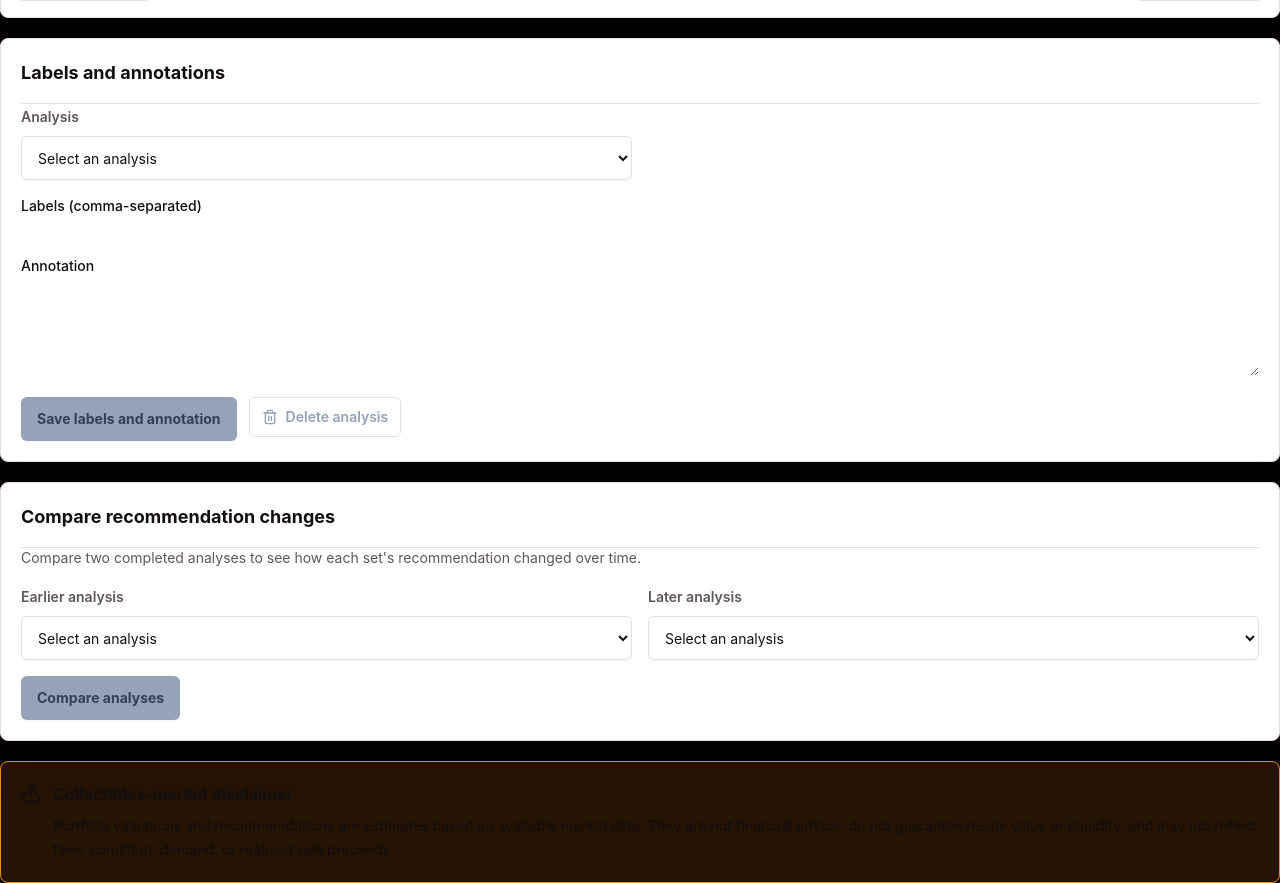
Test: AnalyzePortfolioPage › compares recommendation changes by set between prior analyses
This screenshot has width=1280, height=883.
(page scrolled)
Select "8/9/2026, 12:00:00 PM" in the dropdown labelled "Earlier analysis" at (326, 638), box [21,616,632,660]
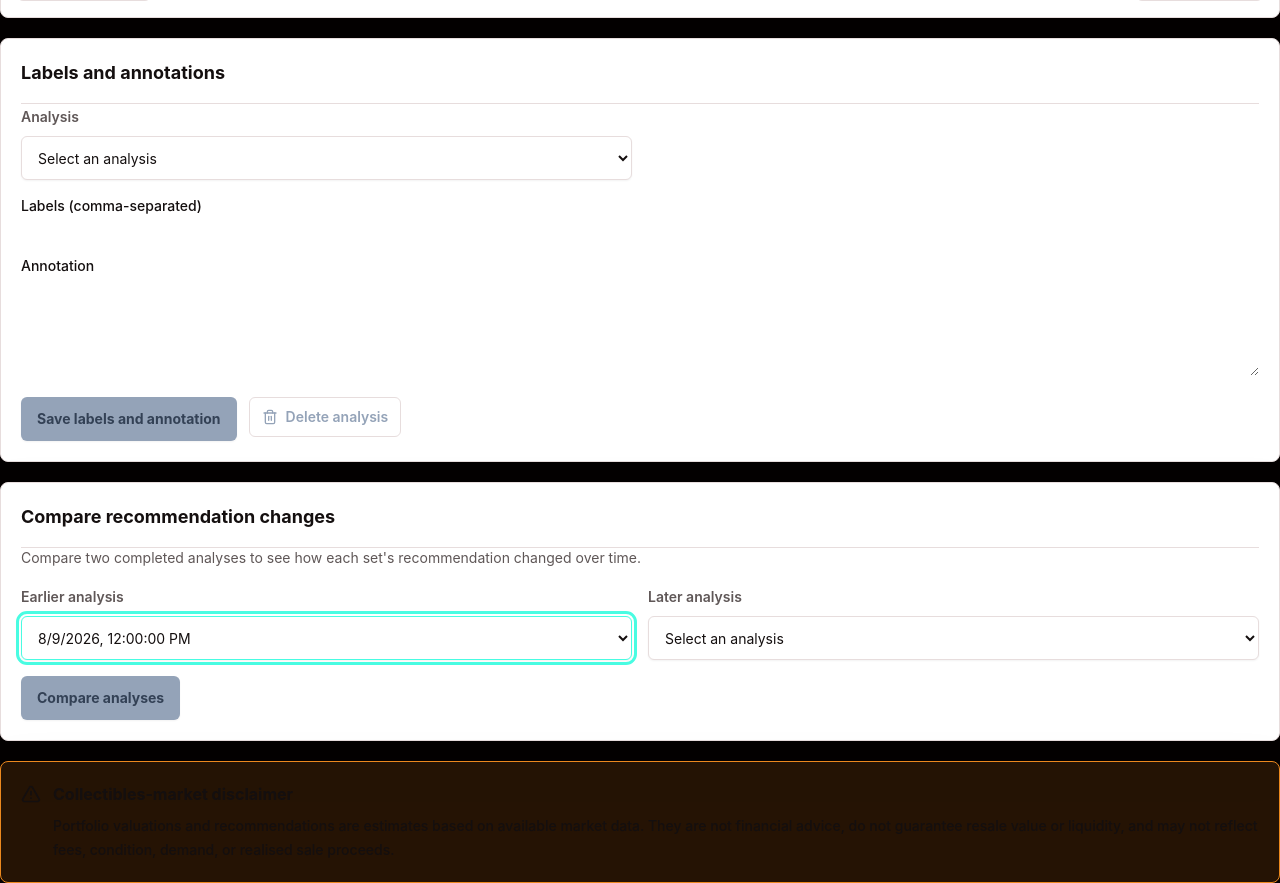
Select "8/10/2026, 12:00:00 PM" in the dropdown labelled "Later analysis" at (954, 638), box [648,616,1259,660]
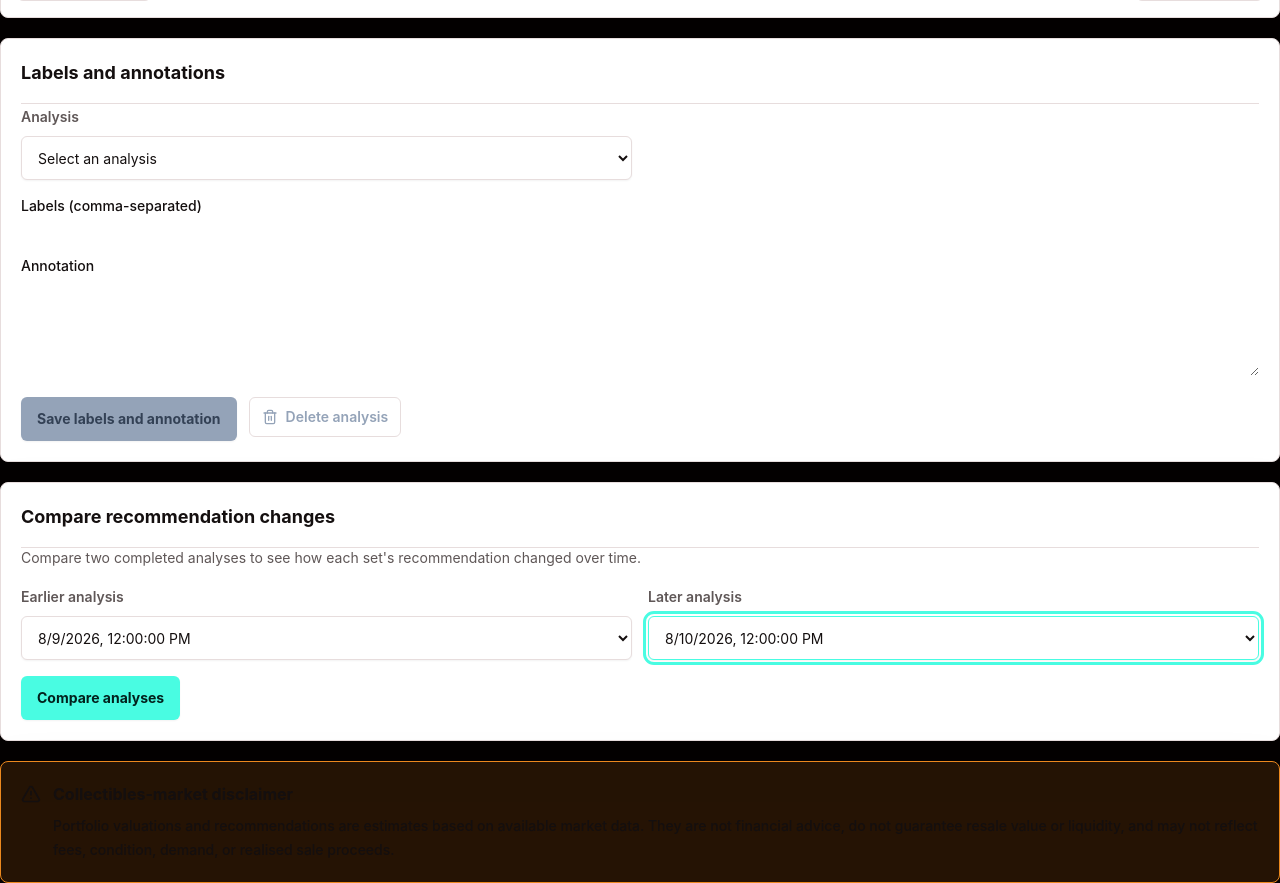
Click the button "Compare analyses" at (101, 698), box [21,676,180,720]
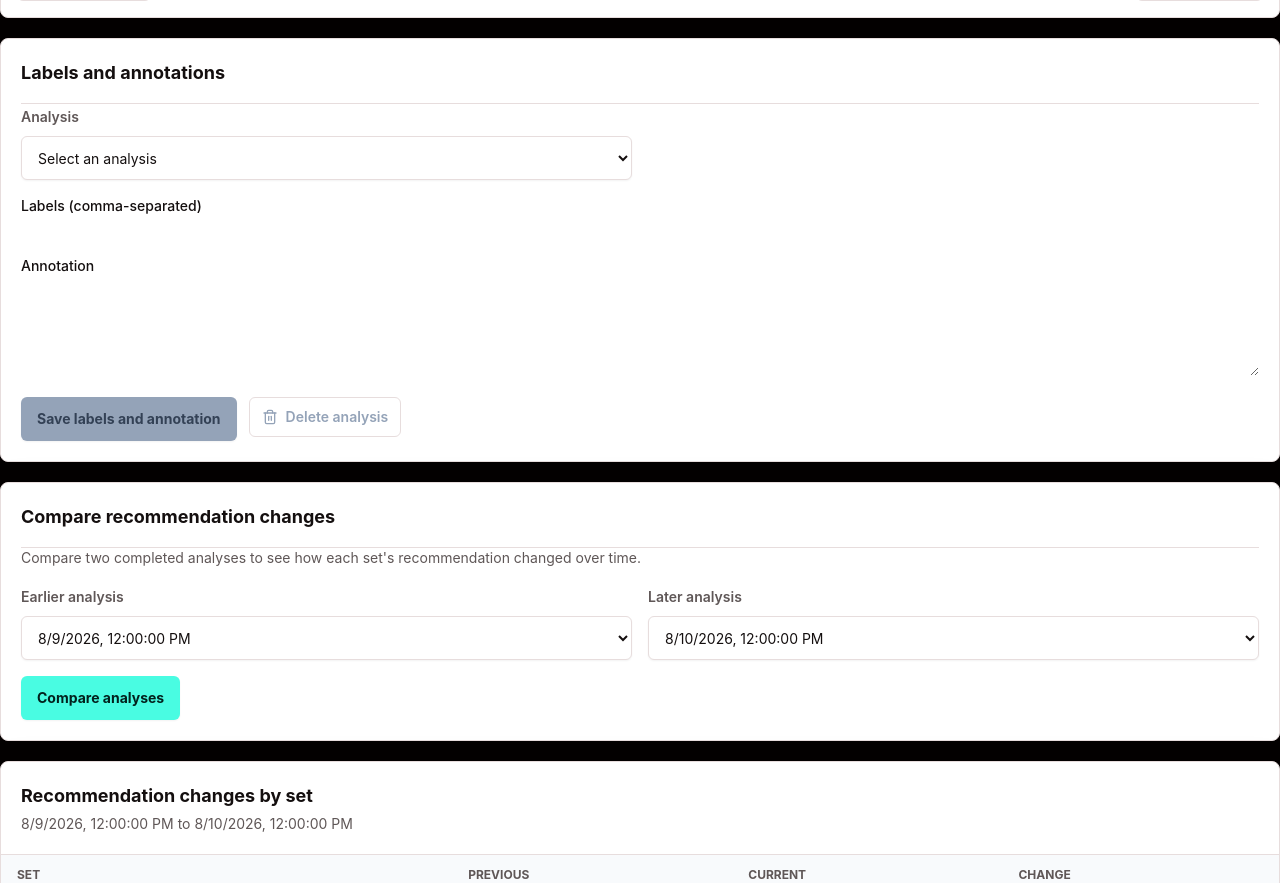
Expected: the heading "Recommendation changes by set" is shown, [21,785,313,806]
